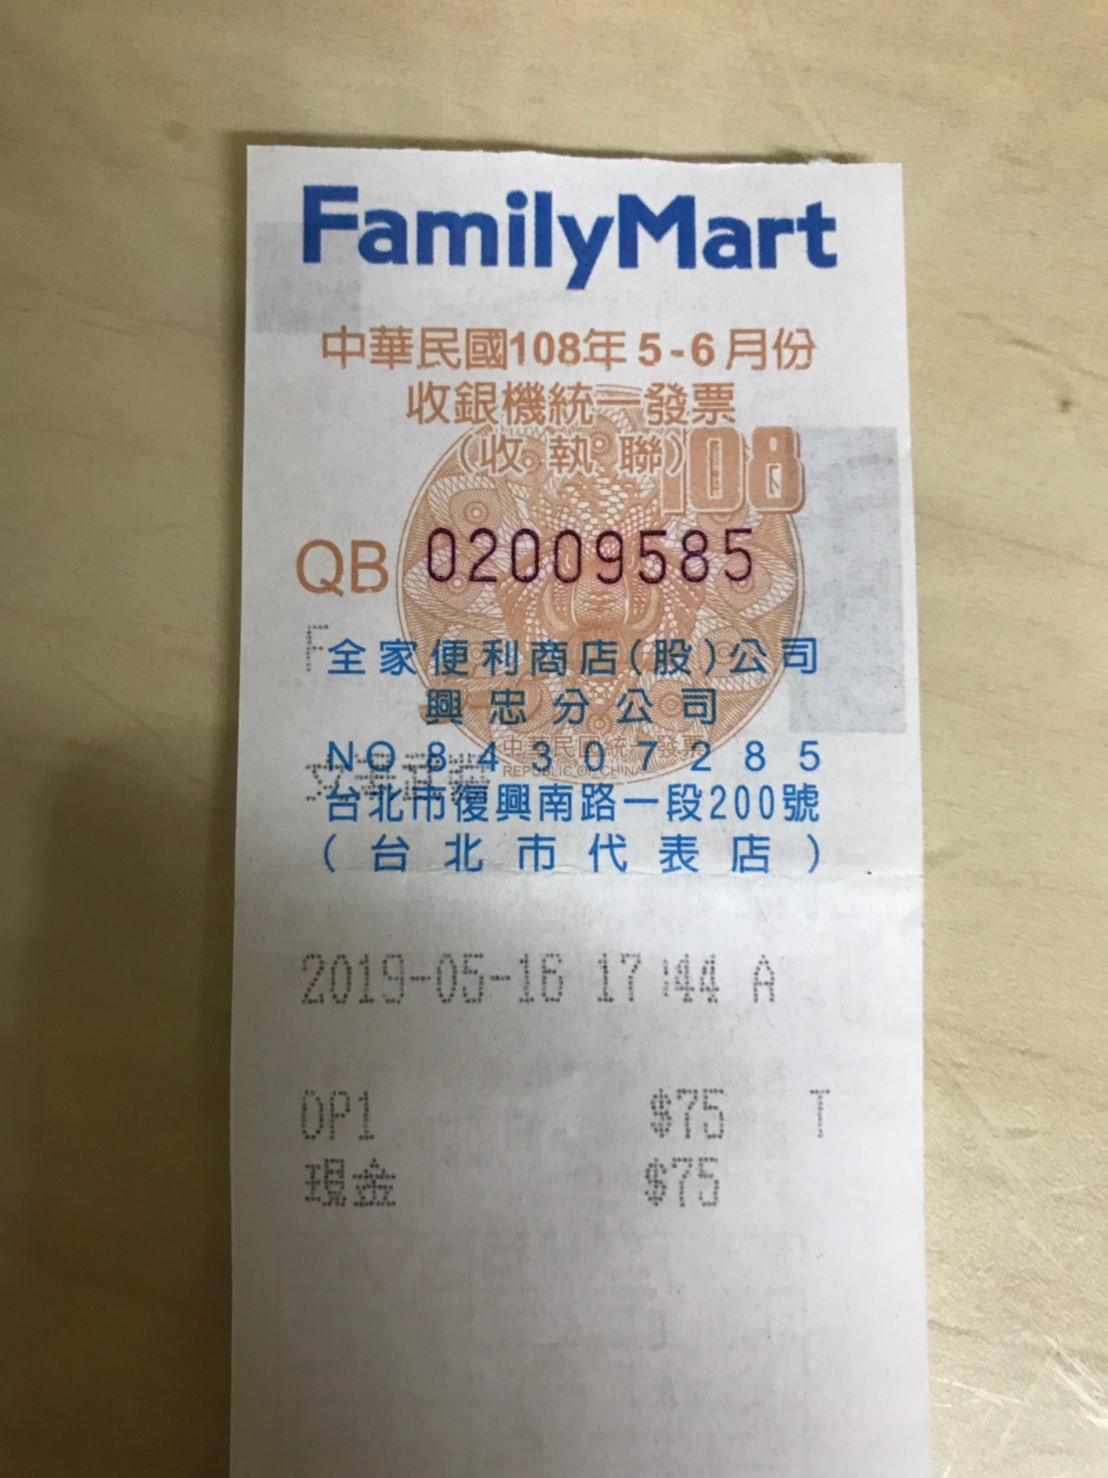Date_Old: (510, 324, 823, 376)
Number_Old: (422, 521, 759, 585)
